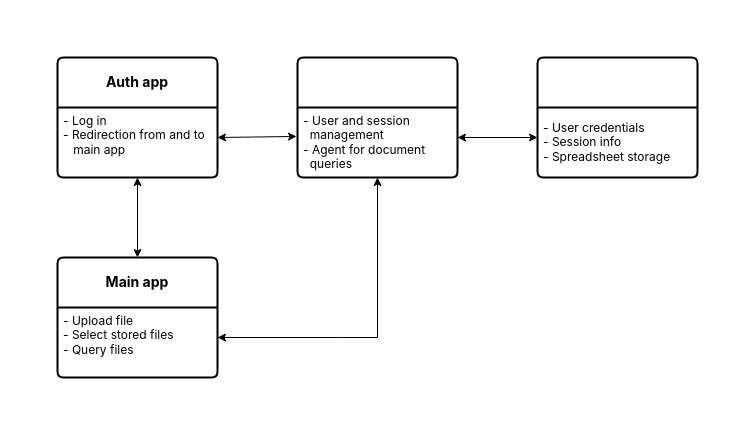
Image size: 754x434. Some labels were removed from this diagram. Here are the shapes that lost their labels. From the top down, the box of each, then its label:
(296, 56, 458, 178): Backend
(536, 56, 698, 178): Database
